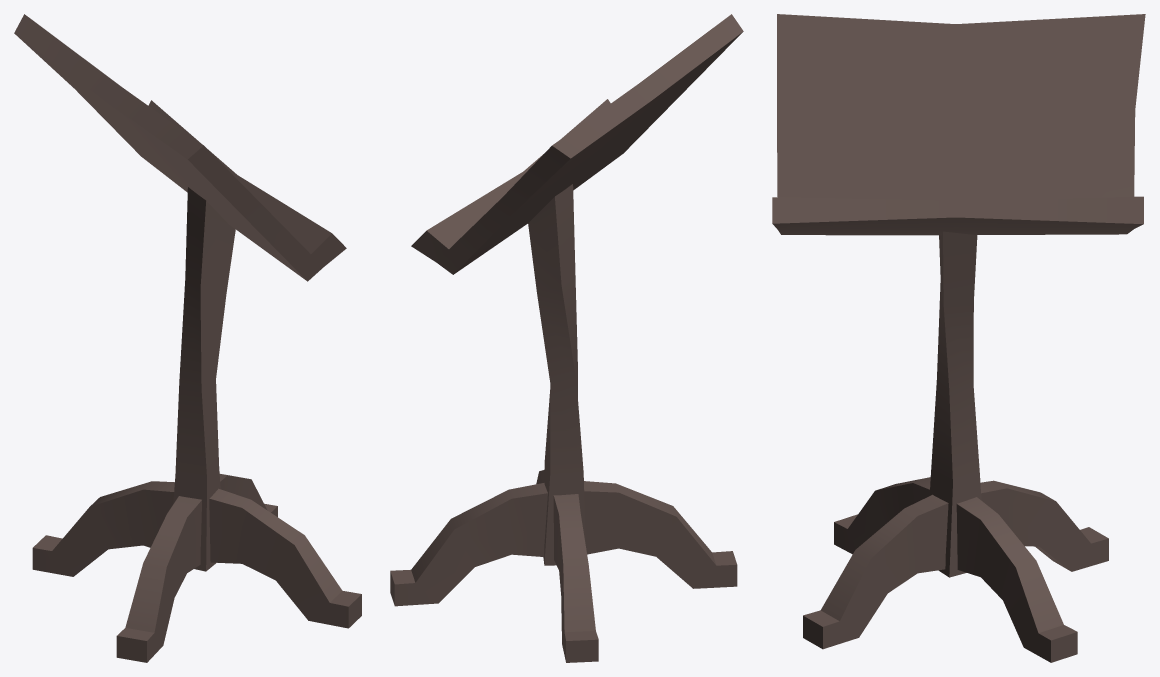
File: Sketchfab_2017_11_01_00_57_05.fbx
The picture shows the model from 3 angles, left to right: view 1: azimuth 30°, elevation 25°; view 2: azimuth 150°, elevation 25°; view 3: azimuth 270°, elevation 25°; orthographic projection. The views are drawn at different scales.
Parts seen in each view (by area): view 1: Cube.241; view 2: Cube.241; view 3: Cube.241.
Boxes of the visible parts, left/top/right/bottom form: Cube.241: left=14, top=14, right=361, bottom=662; Cube.241: left=390, top=14, right=743, bottom=662; Cube.241: left=772, top=14, right=1145, bottom=662.
Bounding box in the file's own units: 48.79 × 97.49 × 60.5.
